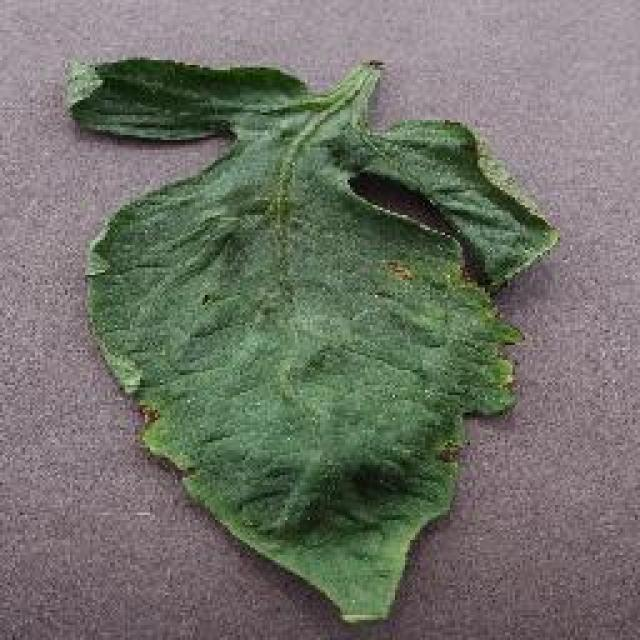Tomato___Target_Spot: (68, 58, 555, 618)
